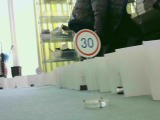speed_30: (72, 28, 101, 57)
